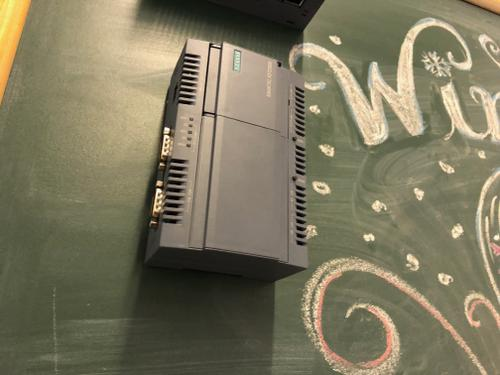device: (144, 38, 309, 283)
